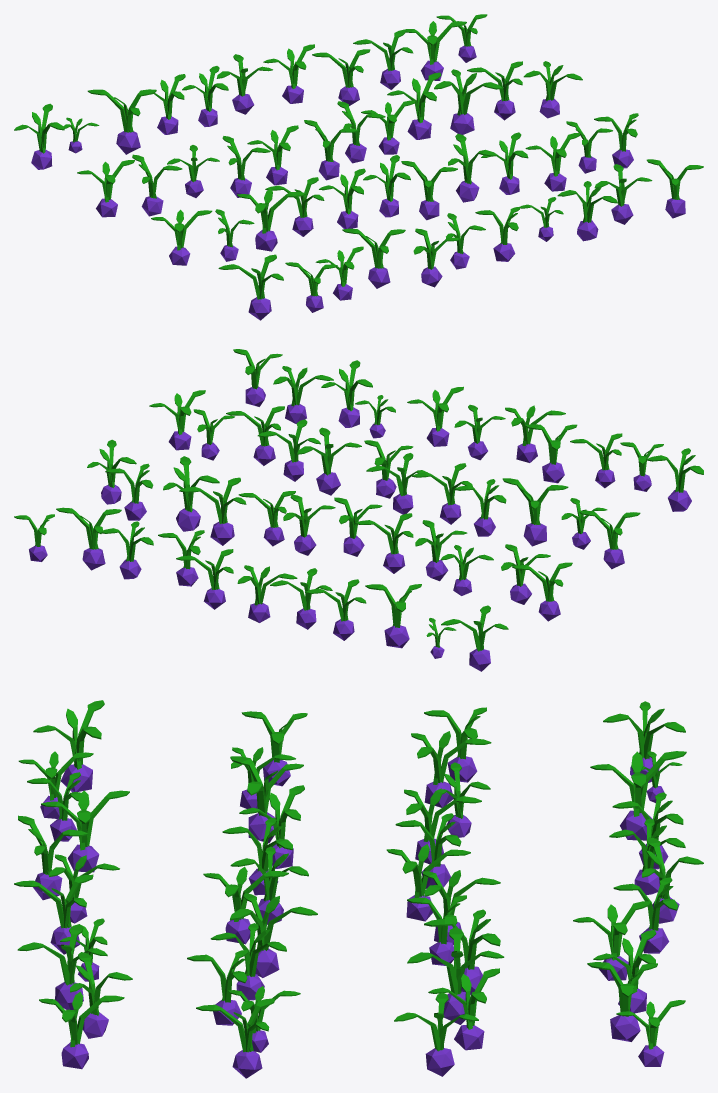
The model's file is planted_turnips_large.obj.
3 views of the same model, one above another, from view 1: azimuth 30°, elevation 25°; view 2: azimuth 150°, elevation 25°; view 3: azimuth 270°, elevation 25° (orthographic). The views are drawn at different scales.
Visible parts, largest first — view 1: Icosphere.013, Icosphere.002, Icosphere.025, Icosphere.014, Icosphere.035, Icosphere.030, Icosphere, Icosphere.038, Icosphere.043, Icosphere.009, Icosphere.011, Icosphere.006 (+33 smaller); view 2: Icosphere.013, Icosphere.014, Icosphere.025, Icosphere.002, Icosphere.035, Icosphere.030, Icosphere.043, Icosphere.009, Icosphere, Icosphere.005, Icosphere.044, Icosphere.006 (+33 smaller); view 3: Icosphere.002, Icosphere.035, Icosphere.013, Icosphere.030, Icosphere.038, Icosphere.045, Icosphere.034, Icosphere.012, Icosphere.011, Icosphere.025, Icosphere.043, Icosphere.021 (+33 smaller).
Part boxes in pixels (x1,y1,x2,y2): Icosphere.013: (434,69,502,134); Icosphere.002: (87,89,156,154); Icosphere.025: (237,188,306,251); Icosphere.014: (387,72,441,139); Icosphere.035: (218,254,283,320); Icosphere.030: (448,133,497,202); Icosphere: (14,103,64,169); Icosphere.038: (342,228,405,288); Icosphere.043: (557,181,617,241); Icosphere.009: (403,21,466,80); Icosphere.011: (523,61,582,118); Icosphere.006: (263,44,314,103); Icosphere.013: (163,456,219,531); Icosphere.014: (179,477,246,545); Icosphere.025: (502,478,568,546); Icosphere.002: (365,584,421,648); Icosphere.035: (646,448,703,511); Icosphere.030: (297,427,361,495); Icosphere.043: (321,360,372,427); Icosphere.009: (56,507,121,570); Icosphere: (441,605,508,671); Icosphere.005: (237,565,297,622); Icosphere.044: (273,366,333,423); Icosphere.006: (176,549,233,609); Icosphere.002: (590,751,686,840); Icosphere.035: (33,700,104,792); Icosphere.013: (407,927,504,1024); Icosphere.030: (230,893,317,977); Icosphere.038: (41,790,129,872); Icosphere.045: (39,991,124,1069); Icosphere.034: (196,998,274,1078); Icosphere.012: (428,968,499,1050); Icosphere.011: (394,992,478,1076); Icosphere.025: (230,756,303,843); Icosphere.043: (17,924,107,1009); Icosphere.021: (411,731,491,807).
Size of the model in its own units: 1.01 by 0.1174 by 0.9004.
